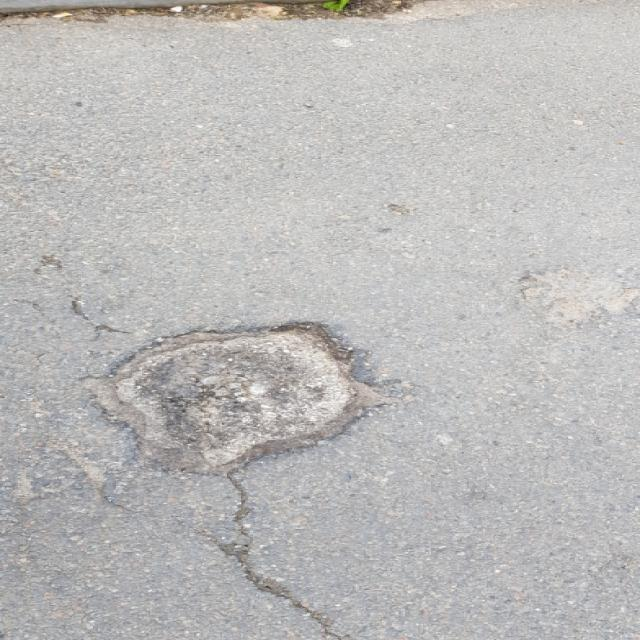pothole: (67, 317, 380, 479)
